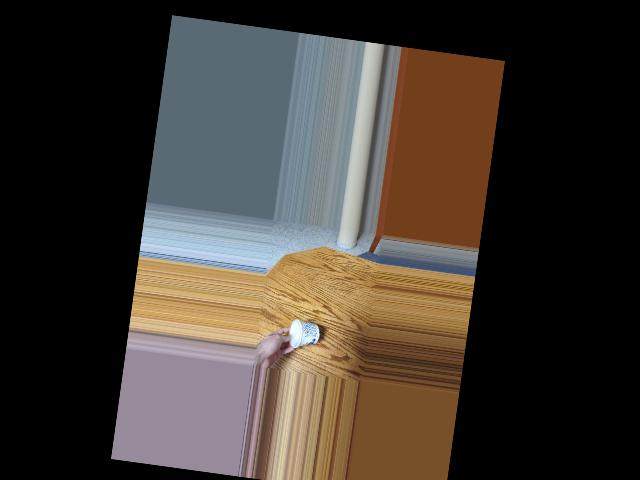cotage: (282, 315, 317, 351)
